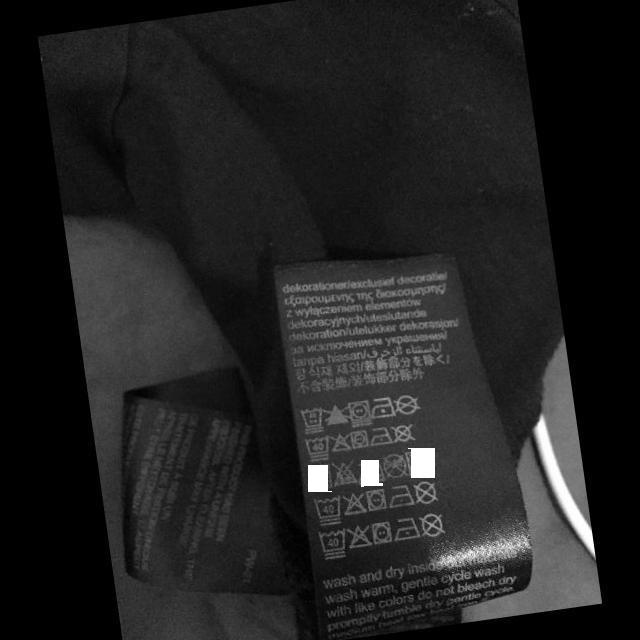40C: (311, 492, 346, 528), (316, 527, 351, 562), (304, 433, 334, 464), (299, 406, 327, 436)
DN_bleach: (328, 458, 361, 490), (320, 400, 354, 430), (340, 488, 370, 518), (344, 522, 374, 552), (326, 430, 354, 455)
DN_dry_clean: (416, 509, 448, 542), (380, 450, 410, 482), (390, 391, 424, 418), (410, 478, 440, 508), (389, 422, 418, 446)
iron_low: (391, 513, 422, 543), (386, 482, 418, 510), (368, 395, 398, 421), (366, 424, 396, 448)
tumble_dry_medium: (364, 486, 388, 514), (346, 399, 372, 424), (370, 520, 394, 547), (348, 428, 372, 451)
